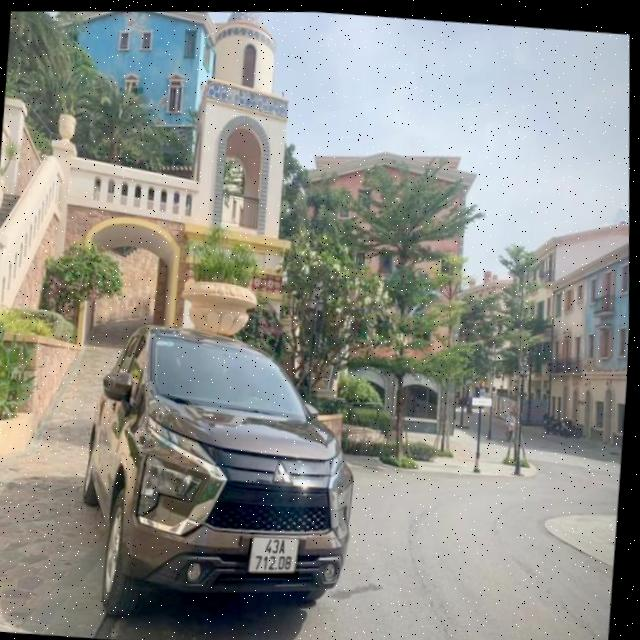car: (70, 312, 370, 640)
plate: (242, 527, 304, 581)
